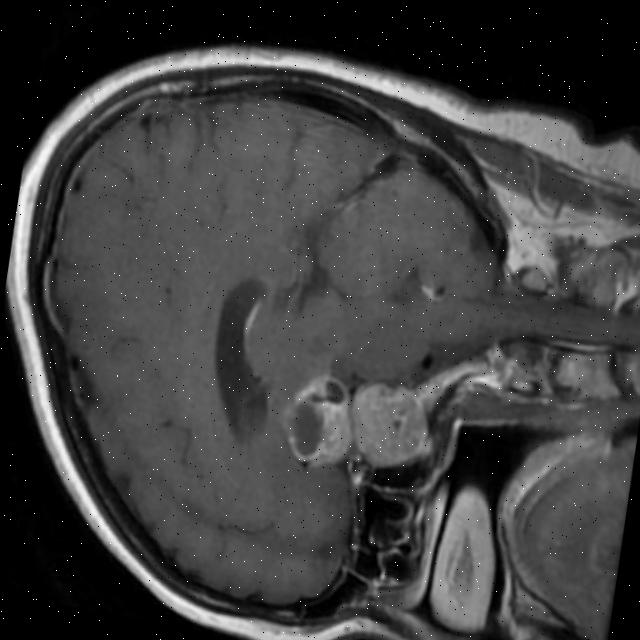Pituitary: (275, 364, 365, 475), (344, 373, 436, 477)
